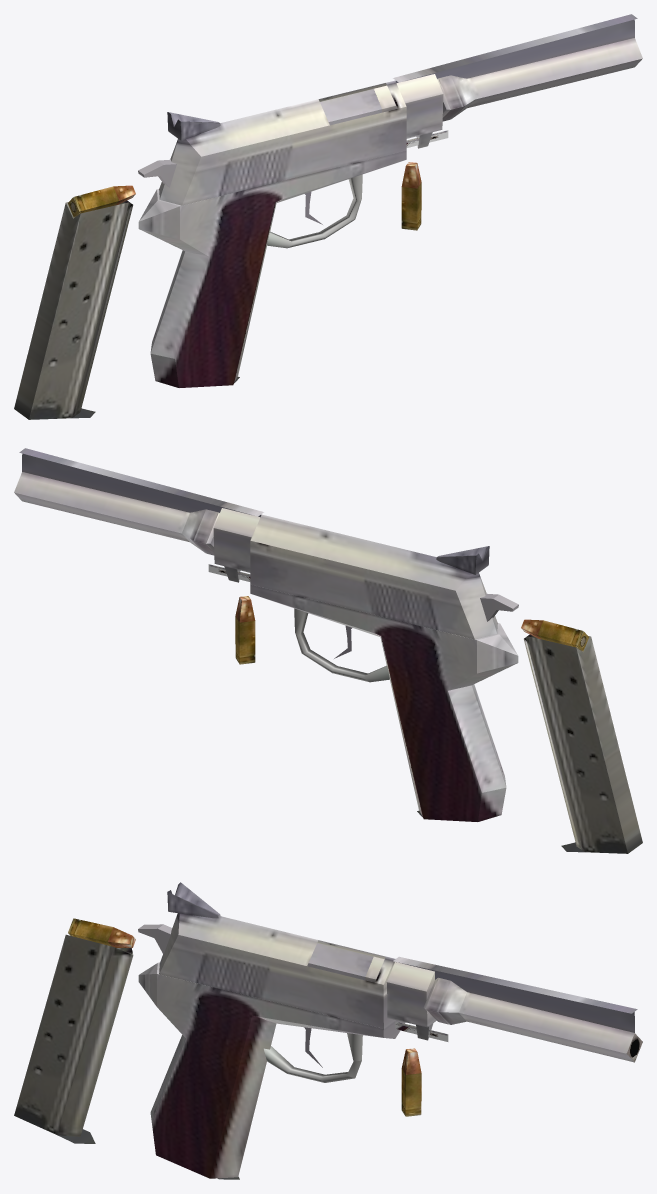
The model's file is HighCalibler.obj.
3 renders of one model, top to bottom at view 1: azimuth 30°, elevation 25°; view 2: azimuth 150°, elevation 25°; view 3: azimuth 330°, elevation 25°, orthographic.
Visible parts, largest first — view 1: HCBody, HCSlide, HCMagFull, HighCaliberBullet, HC_Trigger&Hammer; view 2: HCBody, HCSlide, HCMagFull, HighCaliberBullet, HC_Trigger&Hammer; view 3: HCBody, HCSlide, HCMagFull, HighCaliberBullet, HC_Trigger&Hammer.
Boxes of the visible parts, bbox=[...] form: HCBody: bbox=[138, 14, 642, 387]; HCSlide: bbox=[159, 80, 406, 205]; HCMagFull: bbox=[14, 185, 135, 419]; HighCaliberBullet: bbox=[401, 162, 421, 230]; HC_Trigger&Hammer: bbox=[138, 159, 322, 224]; HCBody: bbox=[14, 448, 518, 821]; HCSlide: bbox=[250, 514, 497, 639]; HCMagFull: bbox=[521, 619, 642, 853]; HighCaliberBullet: bbox=[235, 596, 255, 664]; HC_Trigger&Hammer: bbox=[334, 593, 518, 658]; HCBody: bbox=[138, 943, 642, 1178]; HCSlide: bbox=[159, 882, 396, 1029]; HCMagFull: bbox=[14, 918, 135, 1143]; HighCaliberBullet: bbox=[401, 1048, 421, 1116]; HC_Trigger&Hammer: bbox=[138, 924, 322, 1067].
Bounding box in the file's own units: 4.01 × 1.73 × 0.2857.
